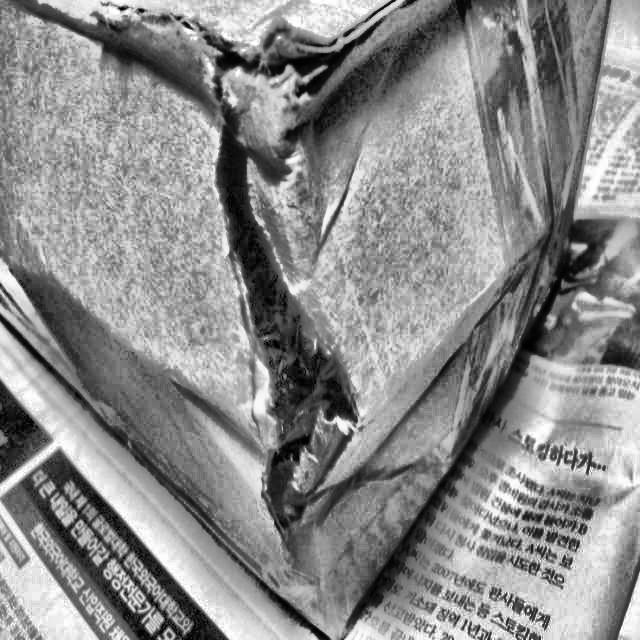box: (0, 0, 626, 639)
hole: (197, 41, 407, 533)
